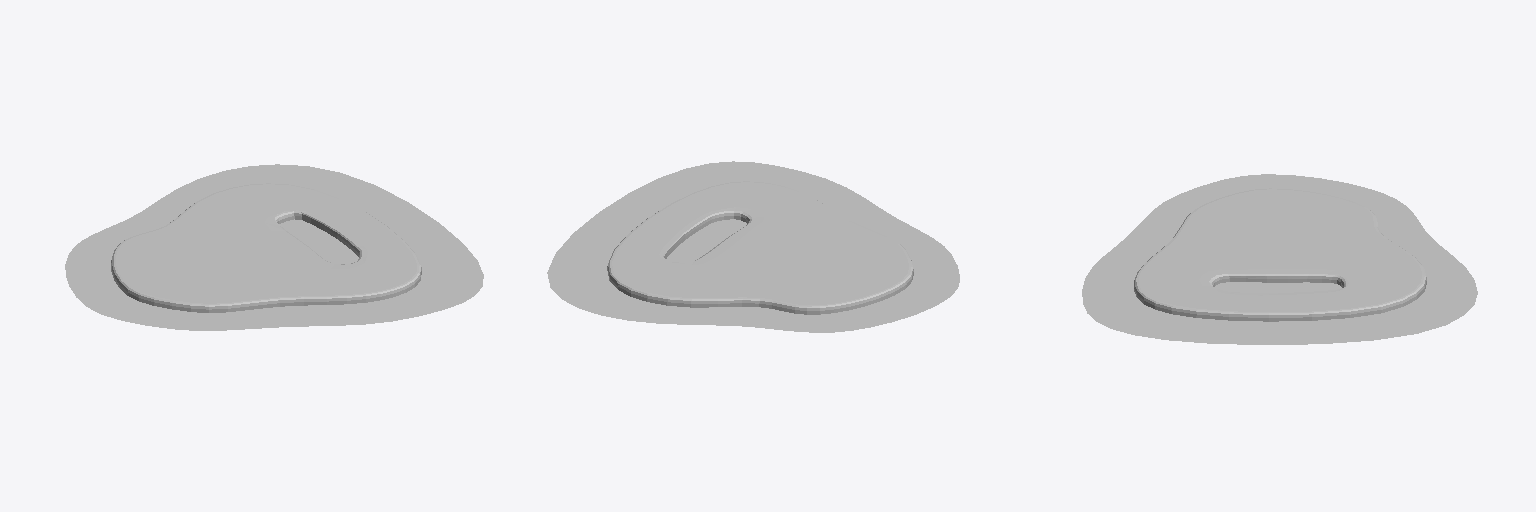
3 views of the same model, side by side, from view 1: azimuth 30°, elevation 25°; view 2: azimuth 150°, elevation 25°; view 3: azimuth 270°, elevation 25° (orthographic).
Visible parts, largest first — view 1: 7_Curve.029, 7_foam_Curve.005, 7.001_Curve.030; view 2: 7_Curve.029, 7_foam_Curve.005, 7.001_Curve.030; view 3: 7_Curve.029, 7_foam_Curve.005, 7.001_Curve.030.
Part boxes in pixels (left/top/right/bottom): 7_Curve.029: left=111, top=183, right=421, bottom=312; 7_foam_Curve.005: left=65, top=164, right=483, bottom=330; 7.001_Curve.030: left=279, top=219, right=358, bottom=263; 7_Curve.029: left=607, top=181, right=913, bottom=314; 7_foam_Curve.005: left=547, top=161, right=959, bottom=332; 7.001_Curve.030: left=666, top=219, right=746, bottom=262; 7_Curve.029: left=1134, top=188, right=1426, bottom=321; 7_foam_Curve.005: left=1082, top=174, right=1477, bottom=344; 7.001_Curve.030: left=1215, top=282, right=1341, bottom=292.
Size of the model in its own units: 47.93 by 0.9671 by 46.88.